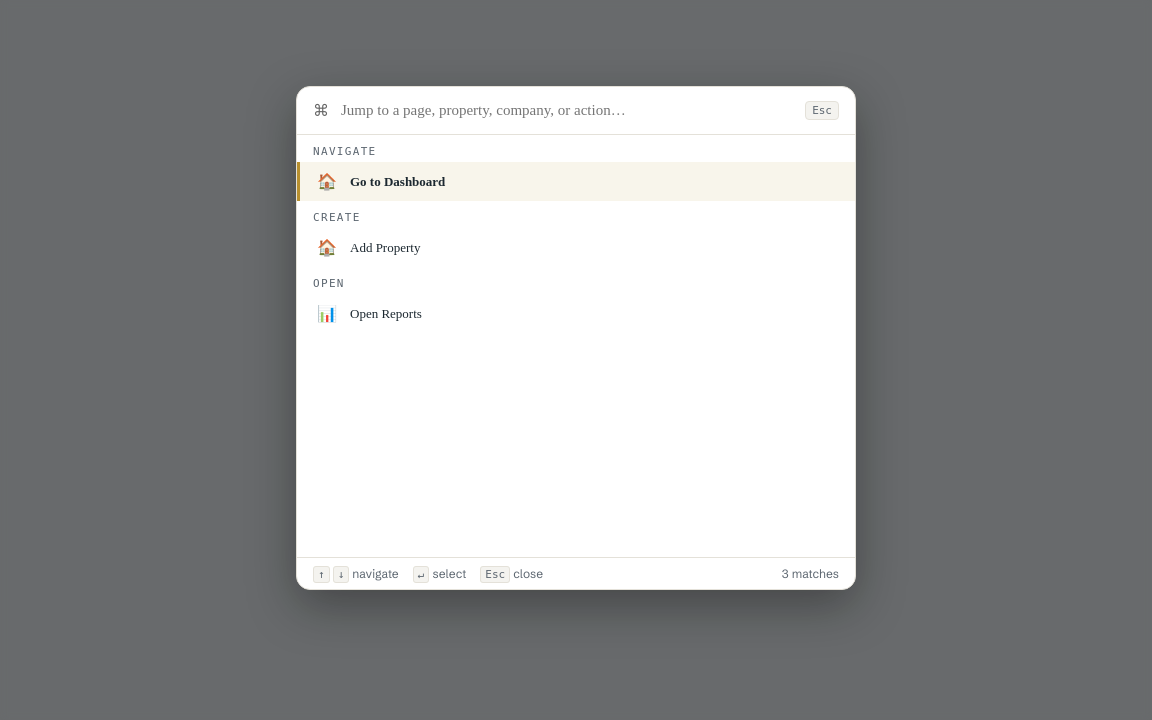
Test: CommandPalette › filters by label substring
Type "report" into the dropdown with placeholder "Jump to a page, property, company, or action…".
click(567, 111); type("report")  # box [339,101,795,120]
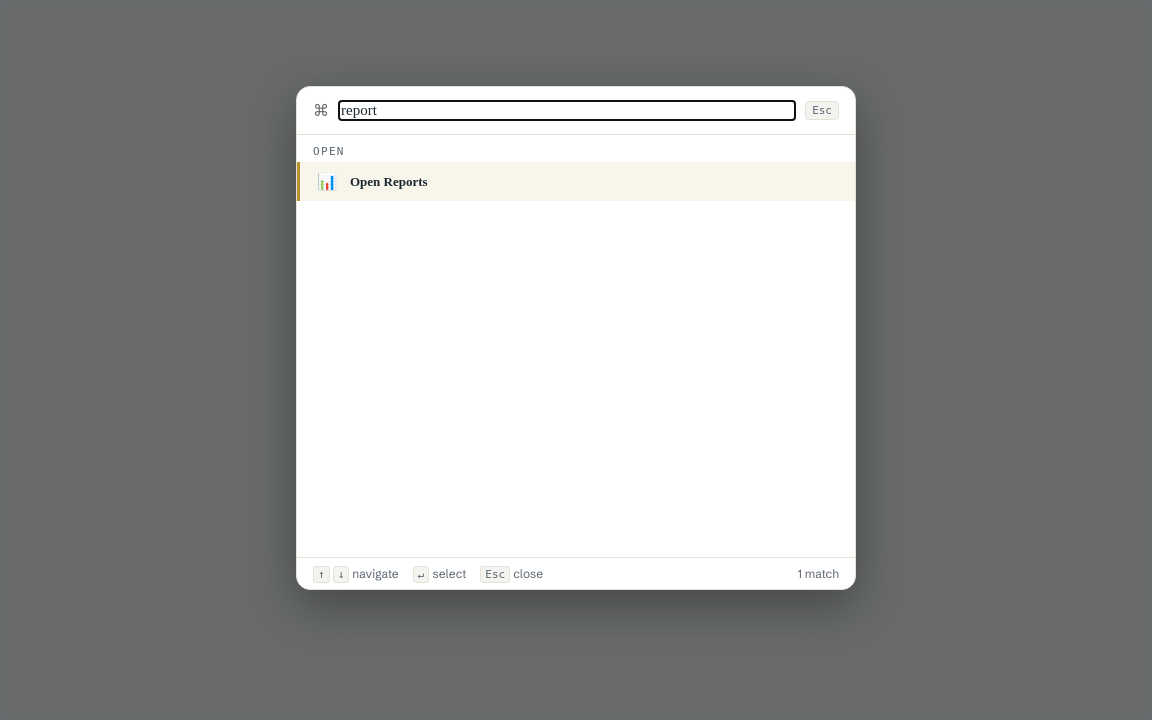
Check: the text "Open Reports" is shown, box [350,174,428,189]
Check: the option "Go to Dashboard" is gone
Check: the option "Add Property" is gone
